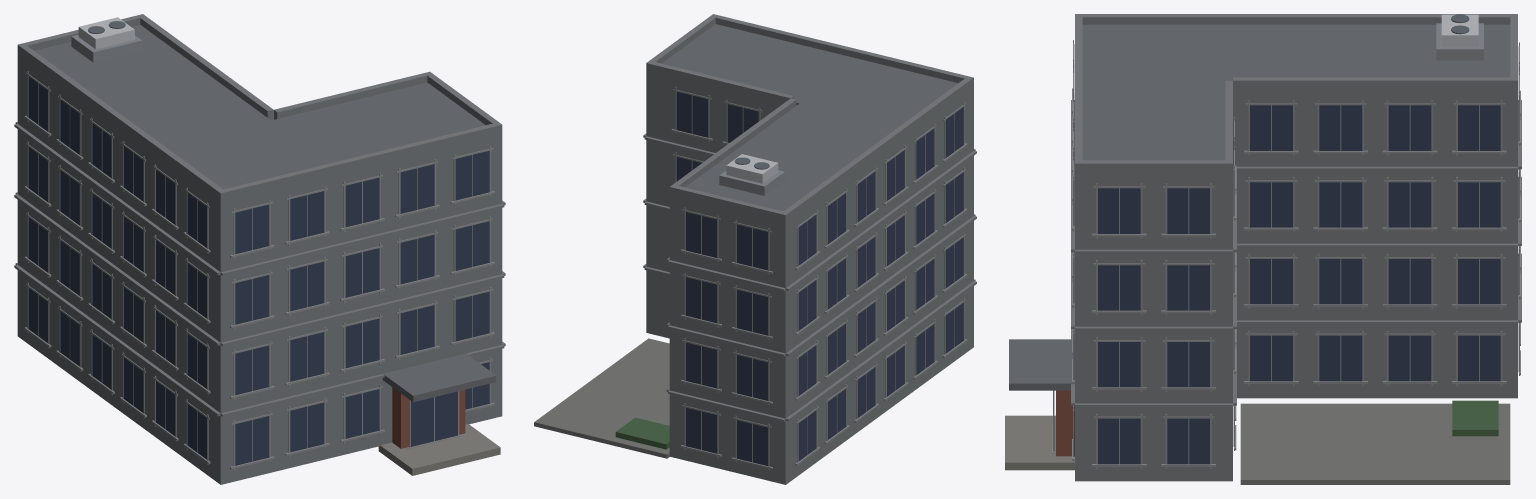
The model's file is civic_corner_05x04_lvl1.glb.
The picture shows the model from 3 angles, left to right: view 1: azimuth 30°, elevation 25°; view 2: azimuth 150°, elevation 25°; view 3: azimuth 270°, elevation 25°; orthographic projection. The views are drawn at different scales.
Parts seen in each view (by area): view 1: civic_corner_05x04; view 2: civic_corner_05x04; view 3: civic_corner_05x04.
Boxes of the visible parts, x1,y1,x2,y2 form: civic_corner_05x04: [14, 14, 505, 484]; civic_corner_05x04: [534, 14, 976, 484]; civic_corner_05x04: [1005, 14, 1521, 484].
Size of the model in its own units: 0.7009 by 0.743 by 1.
